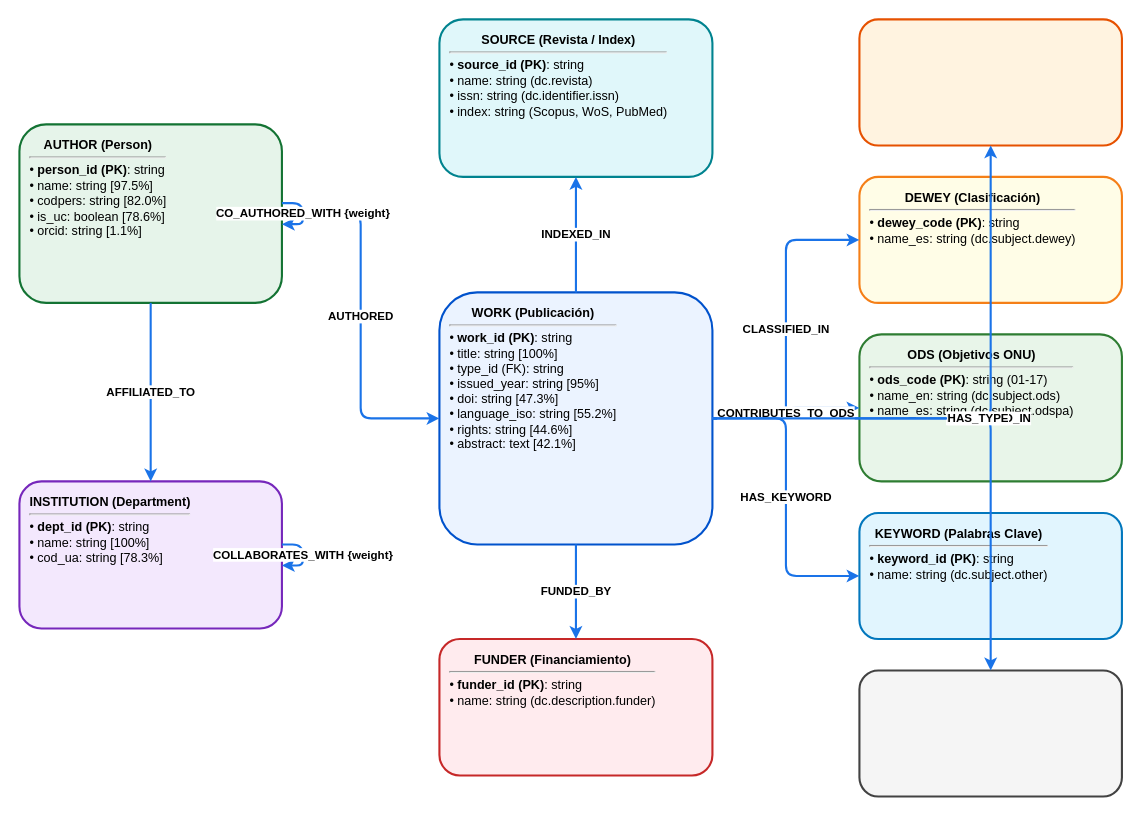
Some shapes in this 1140 by 815 pixel diagram are drawn without their labels. Here are the shapes that lost their labels. From the top down, the centre of each, then its label:
At [990,82]: "PUBLISHER (Editorial) • publisher_id (PK) : string • name: string (dc.publisher)".
At [990,733]: "DOCTYPE (Tipo Documento) • type_id (PK) : string • name: string (dc.type)".
